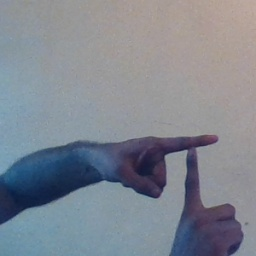T: (128, 118, 238, 234)
